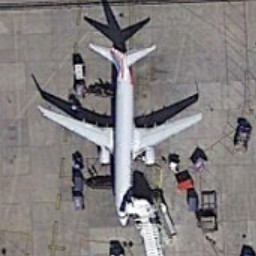Airplane: (34, 35, 209, 234)
